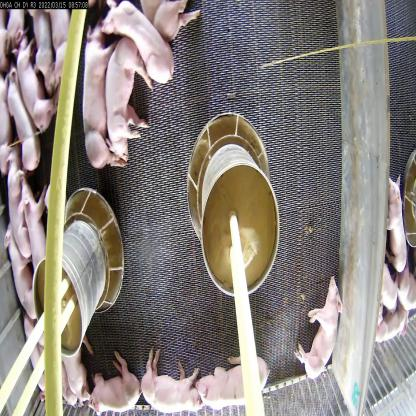Pig: (101, 0, 180, 92), (78, 26, 125, 172), (106, 43, 153, 167), (293, 272, 339, 390), (2, 64, 43, 180), (193, 350, 270, 411), (139, 345, 205, 415), (12, 36, 55, 139), (2, 220, 44, 325), (16, 177, 50, 287), (83, 352, 139, 416), (23, 318, 55, 408), (32, 6, 63, 98), (7, 152, 32, 260), (139, 0, 200, 44), (57, 340, 92, 410), (385, 181, 412, 270), (48, 6, 74, 88), (376, 298, 410, 343), (391, 266, 416, 327), (378, 250, 398, 318)
